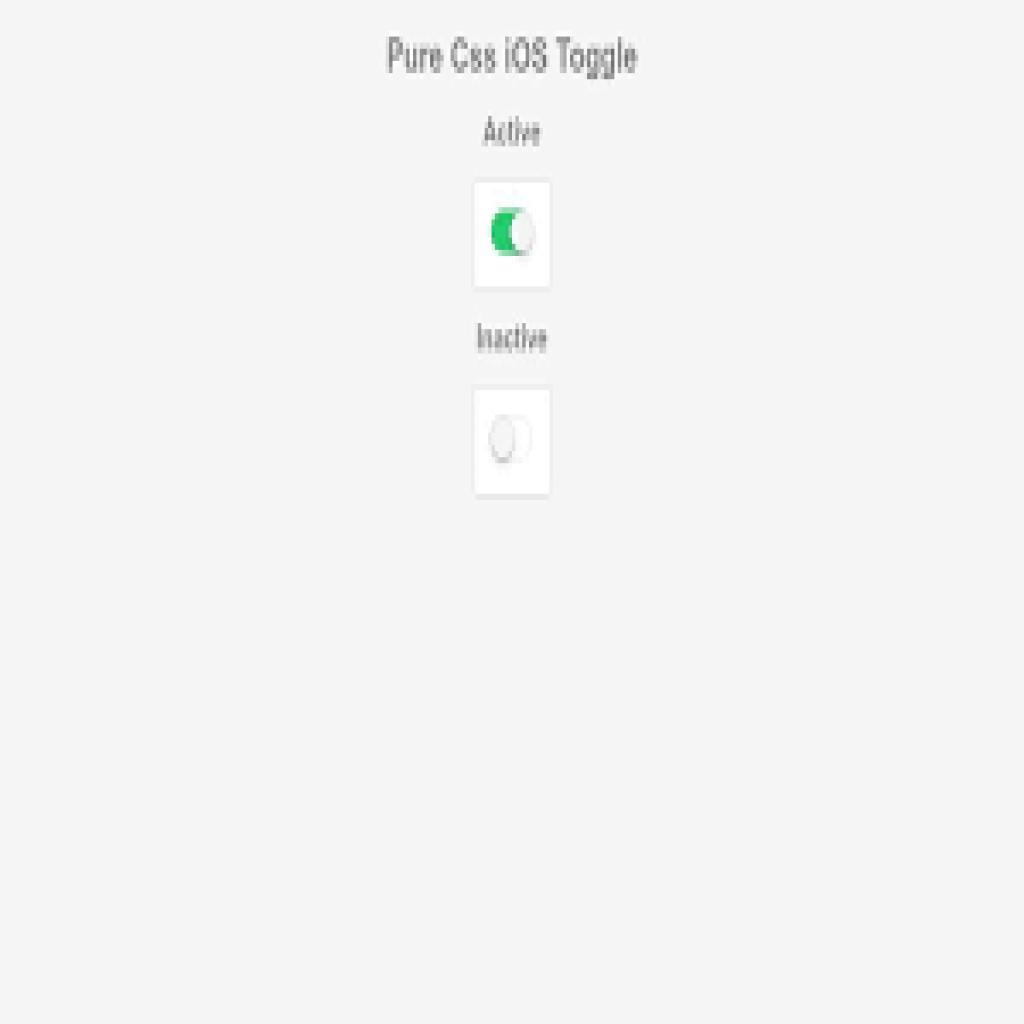switch: (485, 416, 535, 465), (491, 208, 537, 260)
